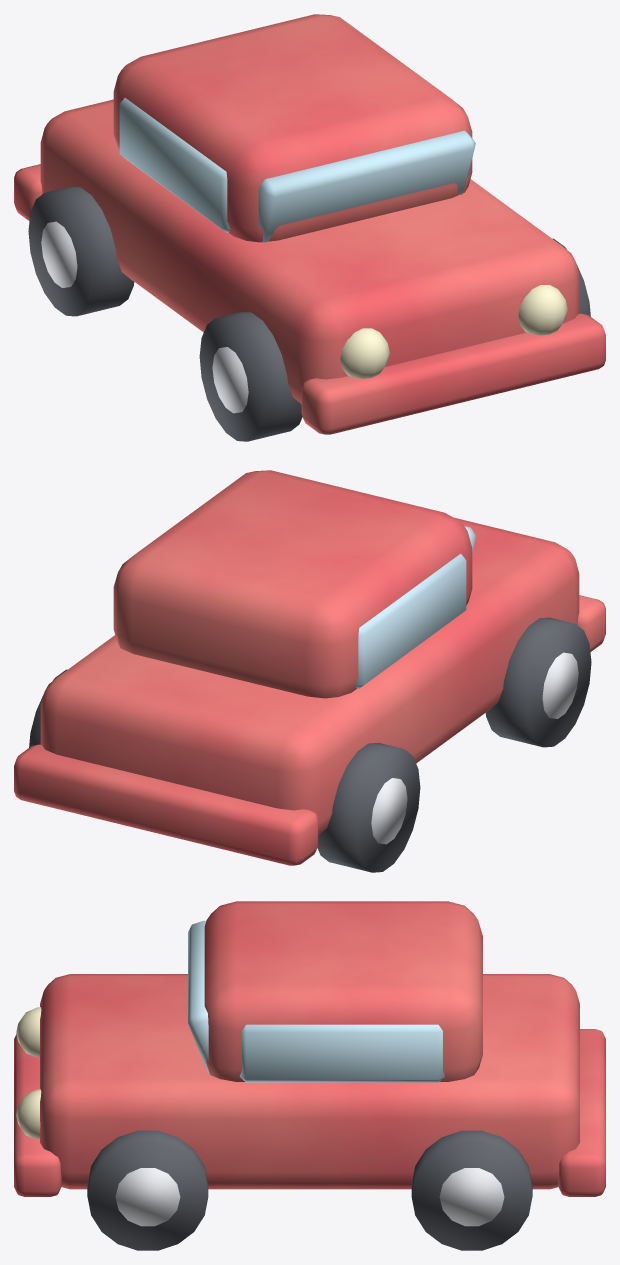
Rendered from mobil_mainan.fbx.
3 renders of one model, top to bottom at view 1: azimuth 30°, elevation 25°; view 2: azimuth 150°, elevation 25°; view 3: azimuth 270°, elevation 25°, orthographic. The views are drawn at different scales.
Visible parts, largest first — view 1: mobil_mainan; view 2: mobil_mainan; view 3: mobil_mainan.
Part boxes in pixels (x1,y1,x2,y2): mobil_mainan: [14, 14, 605, 441]; mobil_mainan: [14, 470, 605, 872]; mobil_mainan: [14, 901, 605, 1250].
Size of the model in its own units: 16.8 by 11.76 by 27.4.
Materials: 1 (1 with a texture image).
